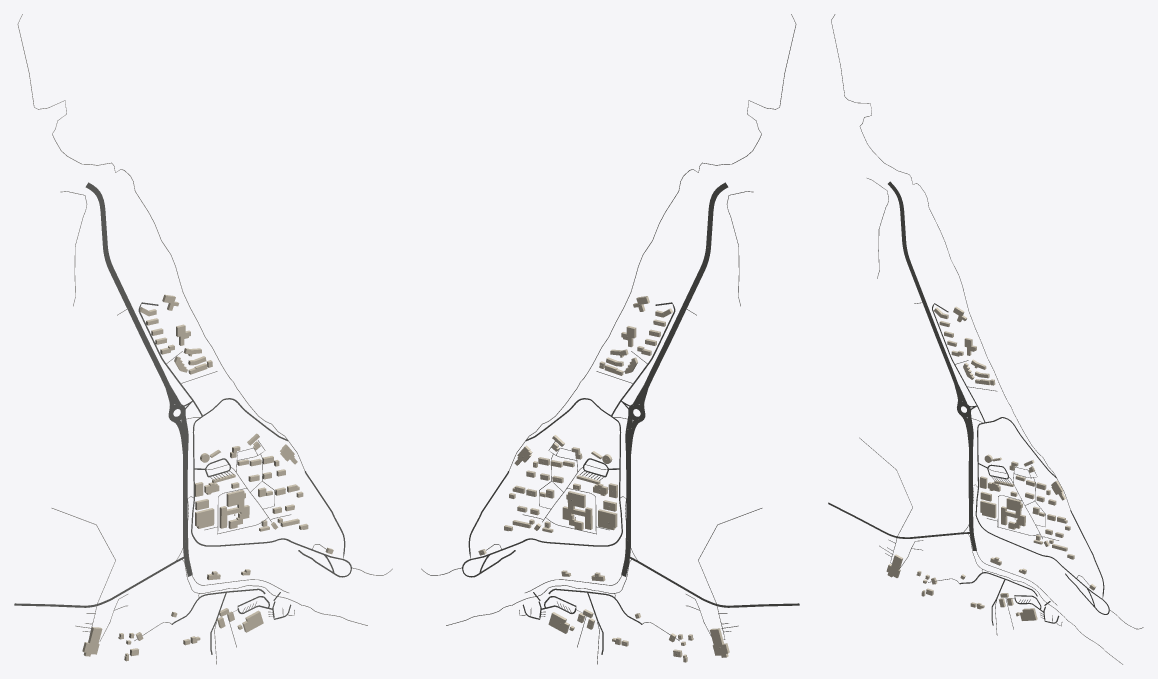
Rendered from historic-palestine-14_33_3557_3271.glb.
3 renders of one model, left to right at view 1: azimuth 30°, elevation 25°; view 2: azimuth 150°, elevation 25°; view 3: azimuth 330°, elevation 25°, orthographic. The views are drawn at different scales.
Parts seen in each view (by area): view 1: Road 90.007, Road .012, Road .041, Road 90.001; view 2: Road 90.007, Road .012, Road .041, Road 90.001; view 3: Road 90.007, Road .012.
Boxes of the visible parts, x1,y1,x2,y2 form: Road 90.007: (85,182,169,387); Road .012: (17,14,304,470); Road .041: (191,471,345,559); Road 90.001: (183,455,189,565); Road 90.007: (644,182,728,387); Road .012: (509,14,796,470); Road .041: (468,471,622,559); Road 90.001: (624,455,630,565); Road 90.007: (888,181,957,383); Road .012: (831,14,1070,510).
Bounding box in the file's own units: 925 × 1630 × 8.7.
